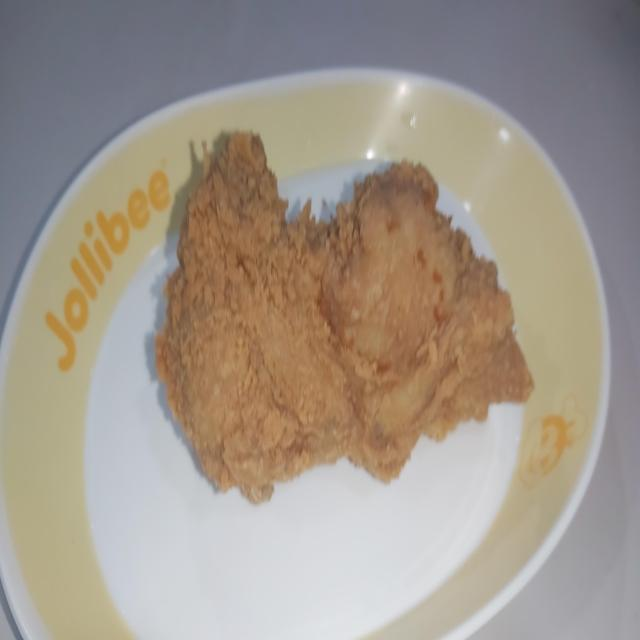Chicken -Fried Chicken-: (156, 120, 554, 508)
